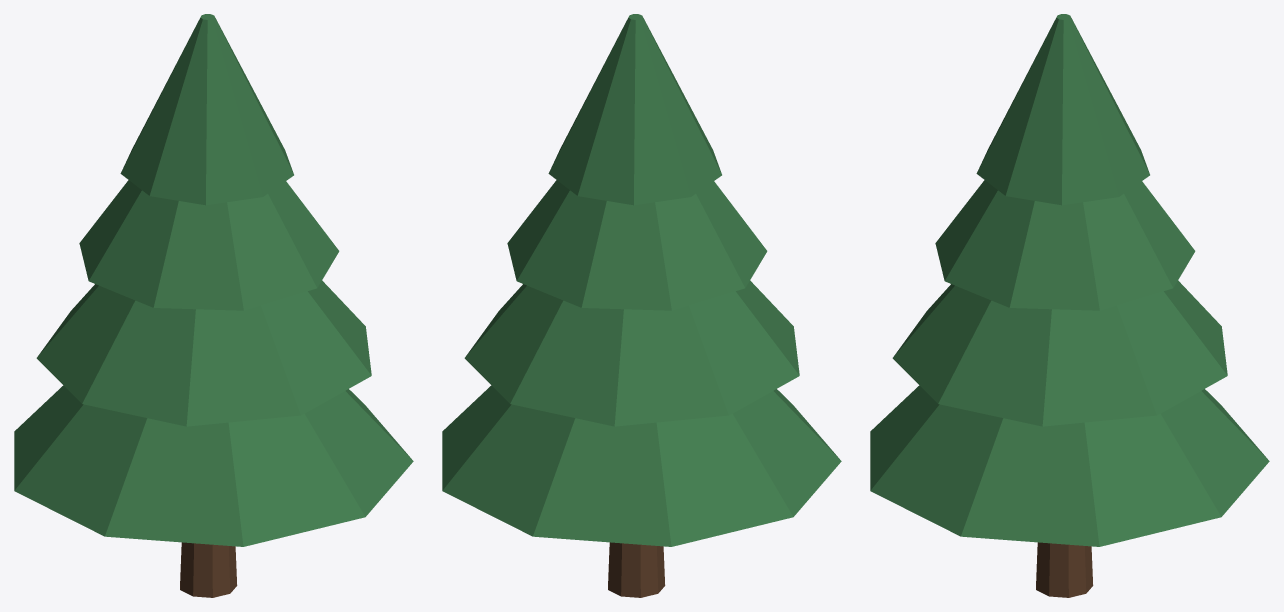
File: Tree.fbx
3 renders of one model, left to right at view 1: azimuth 30°, elevation 25°; view 2: azimuth 150°, elevation 25°; view 3: azimuth 270°, elevation 25°, orthographic.
Parts seen in each view (by area): view 1: Leaves, Trunk; view 2: Leaves, Trunk; view 3: Leaves, Trunk.
Part boxes in pixels (left/top/right/bottom): Leaves: left=14, top=14, right=413, bottom=546; Trunk: left=180, top=542, right=237, bottom=597; Leaves: left=442, top=14, right=841, bottom=546; Trunk: left=608, top=542, right=665, bottom=597; Leaves: left=870, top=14, right=1269, bottom=546; Trunk: left=1036, top=542, right=1093, bottom=597.
Bounding box in the file's own units: 827 × 1280 × 815.
